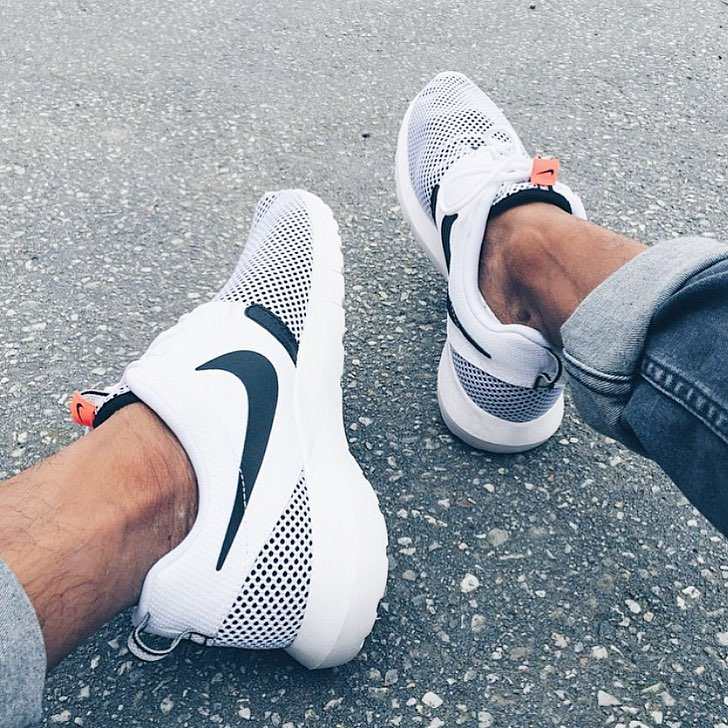sneaker: (52, 169, 407, 698), (377, 53, 604, 468)
